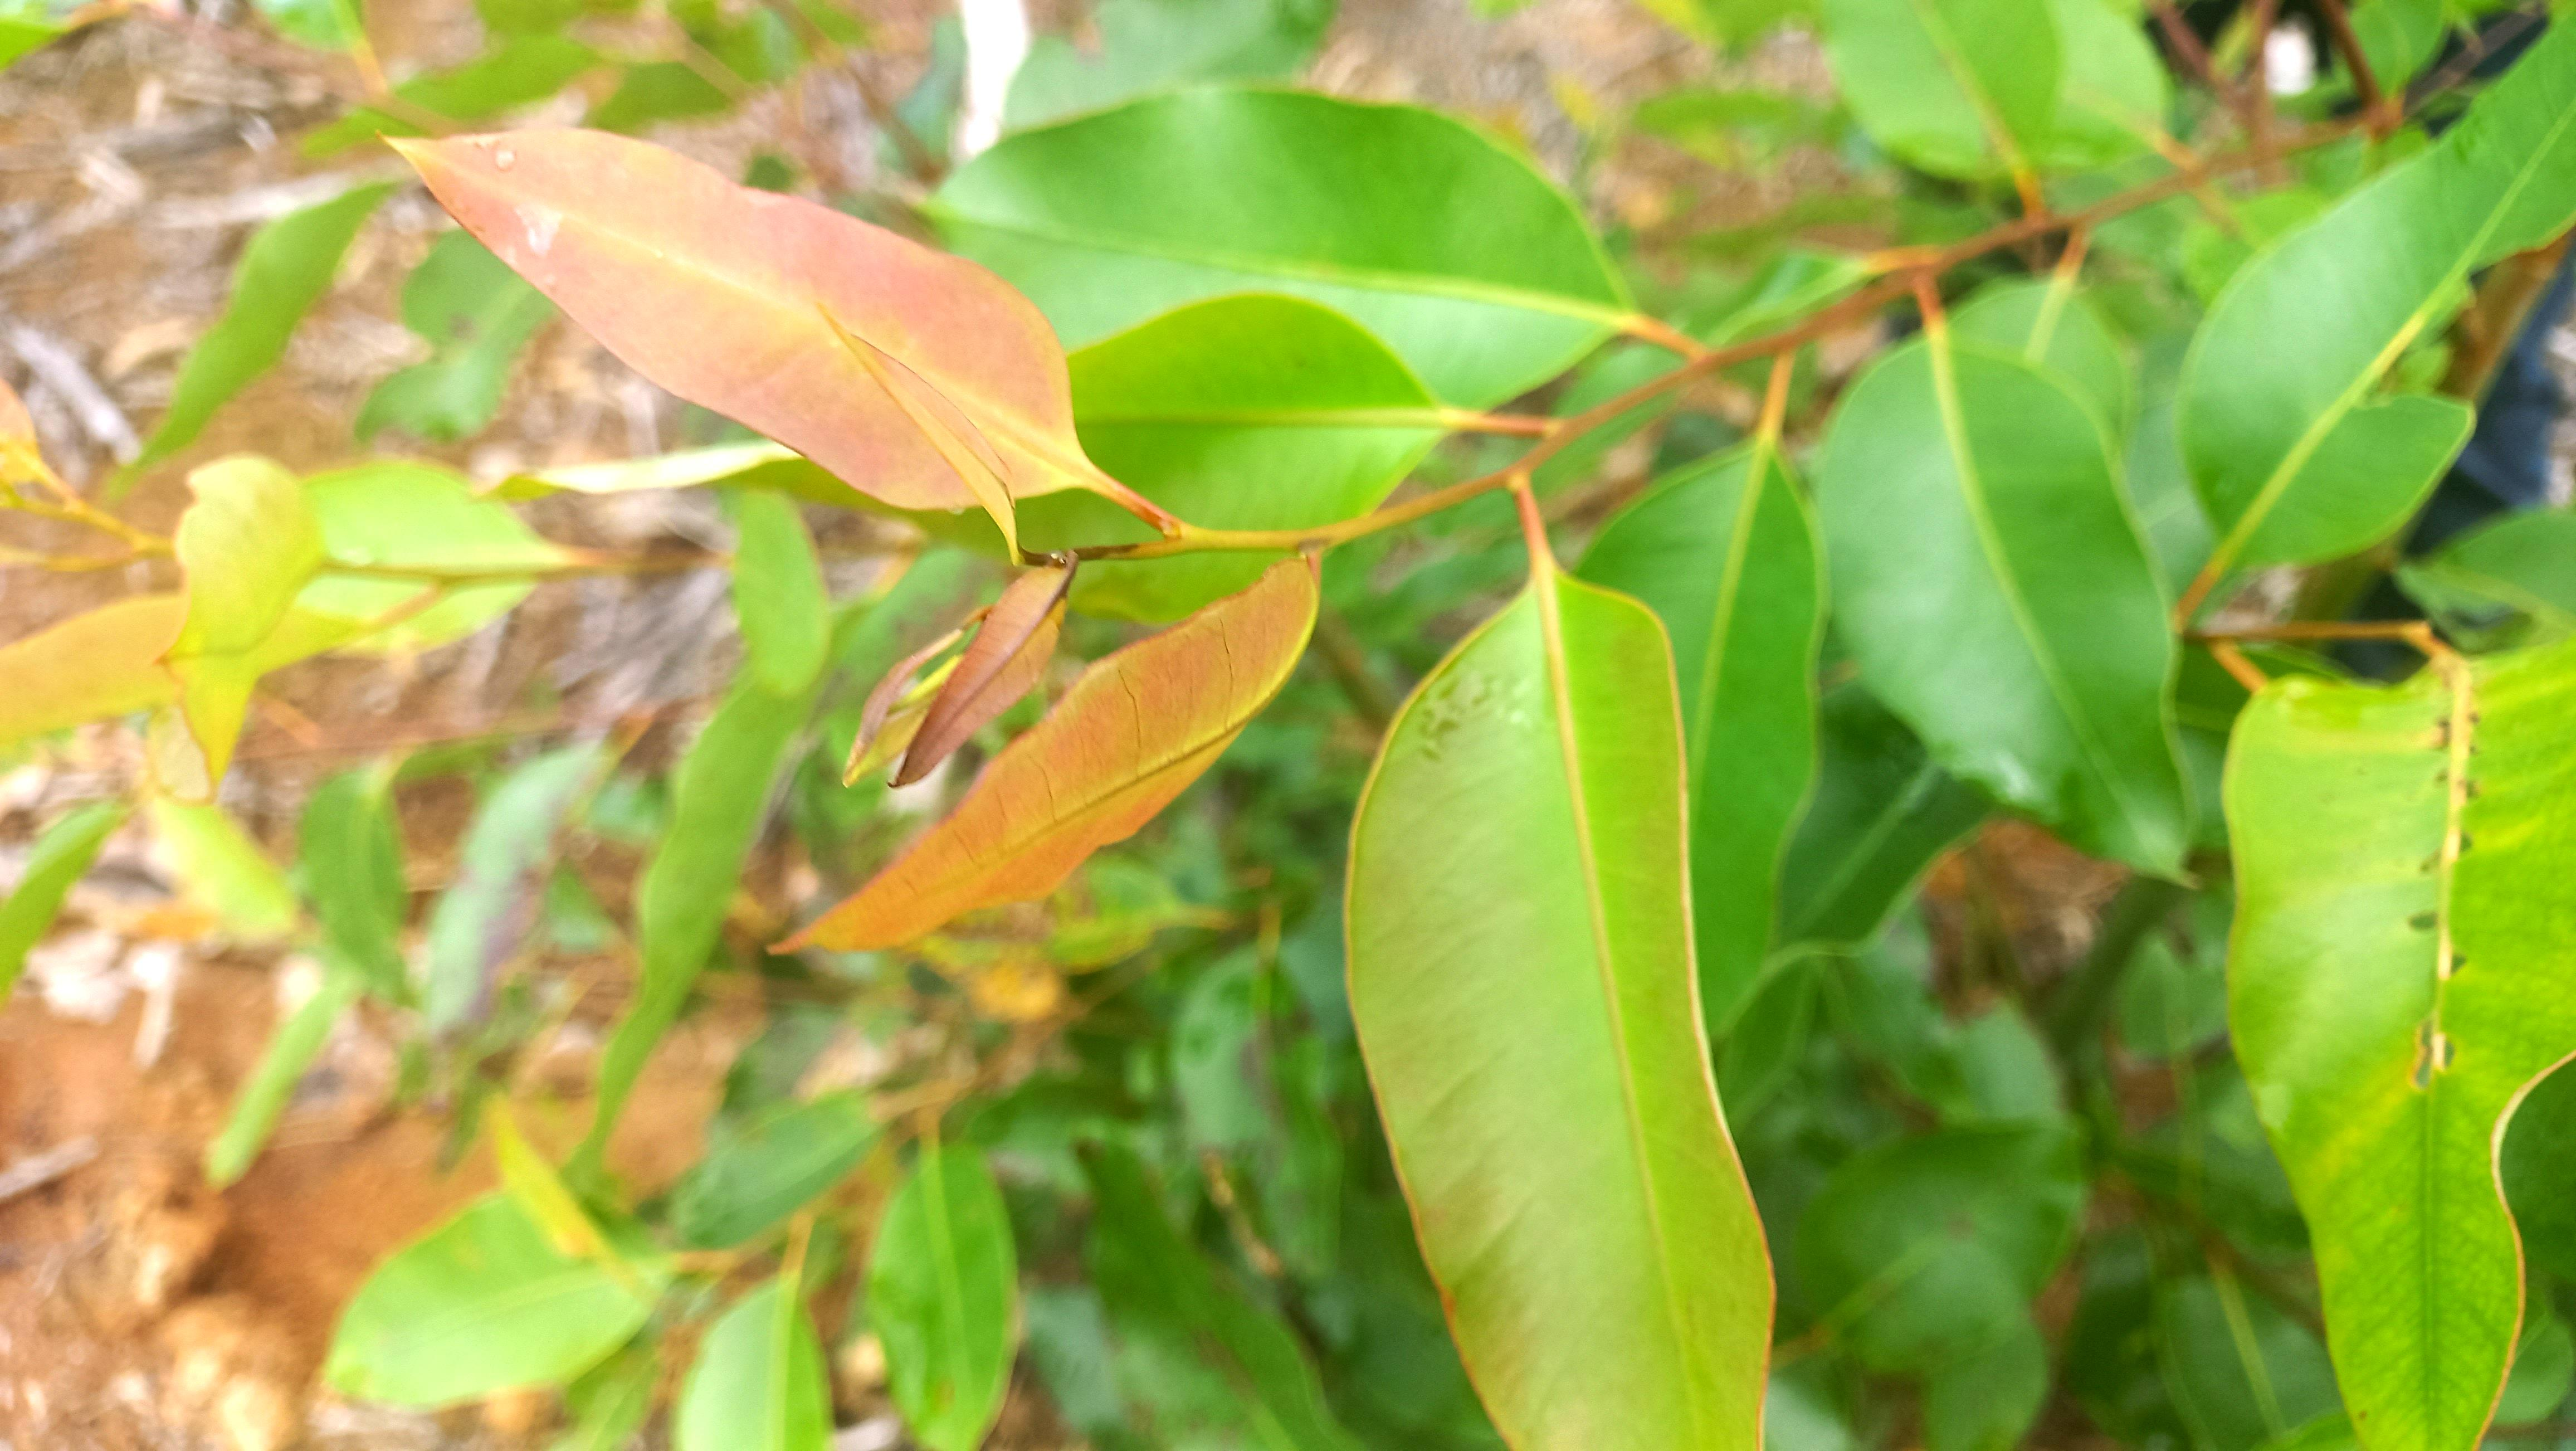Helopeltis-Withered Sprout: (382, 131, 1097, 511), (832, 549, 1077, 795)
